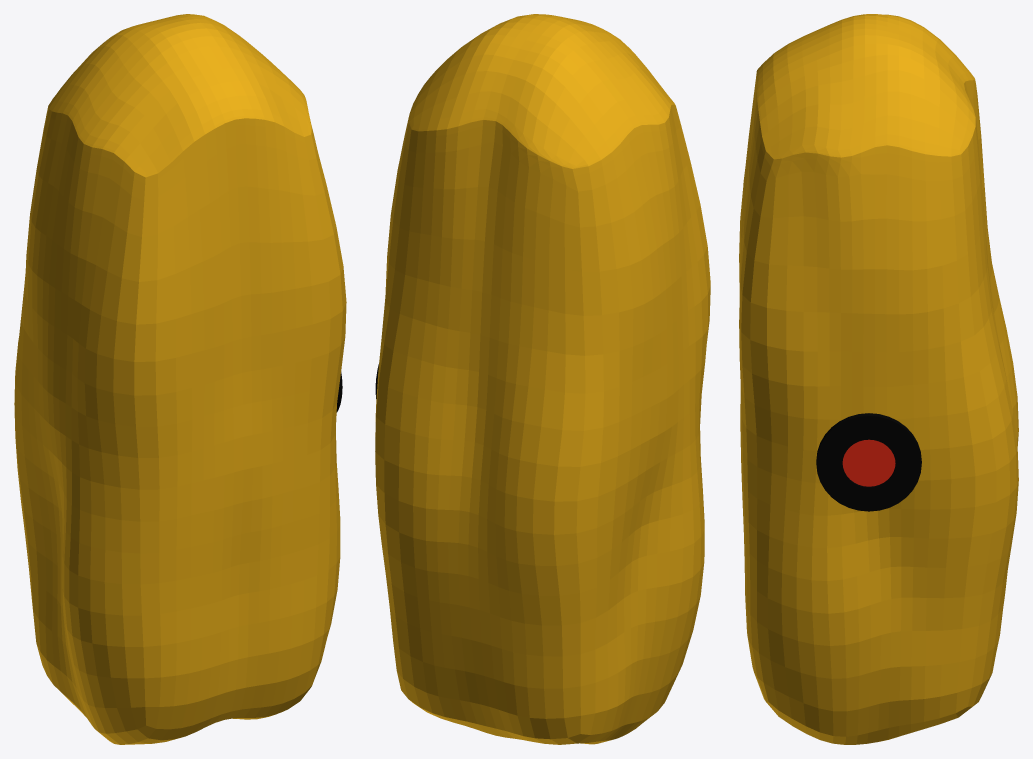
Rendered from blob.fbx.
The picture shows the model from 3 angles, left to right: view 1: azimuth 30°, elevation 25°; view 2: azimuth 150°, elevation 25°; view 3: azimuth 270°, elevation 25°; orthographic projection.
Parts seen in each view (by area): view 1: Cube; view 2: Cube; view 3: Cube, Cylinder, Cylinder.001.
Boxes of the visible parts, x1,y1,x2,y2 form: Cube: (14, 14, 346, 744); Cube: (375, 14, 710, 744); Cube: (739, 14, 1018, 744); Cylinder: (816, 413, 921, 511); Cylinder.001: (842, 439, 895, 486).
Size of the model in its own units: 339 by 838 by 310.
